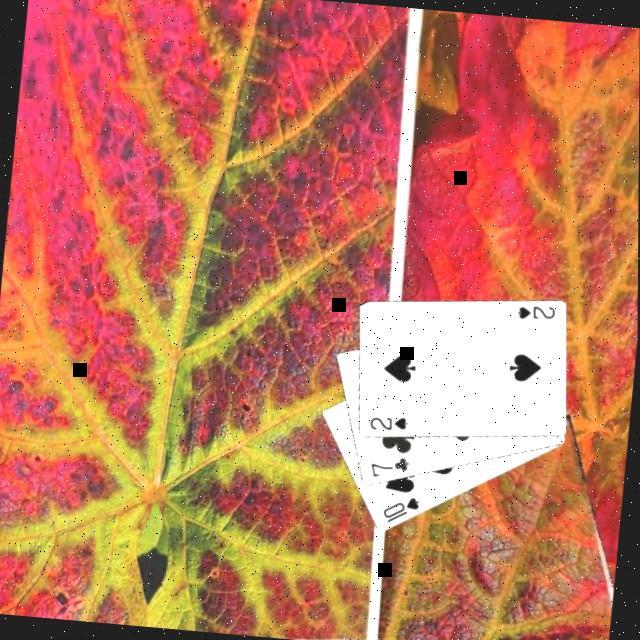10S: (379, 492, 424, 529)
2S: (513, 300, 559, 326), (366, 412, 412, 436)
7C: (367, 452, 414, 484)
